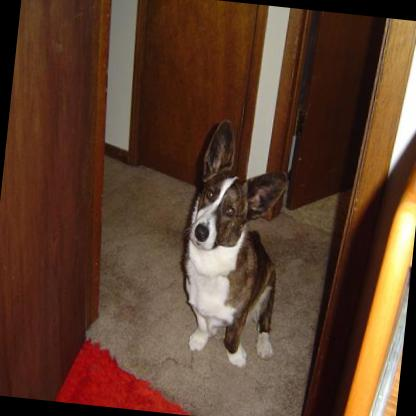Cardigan: (168, 111, 298, 364)
